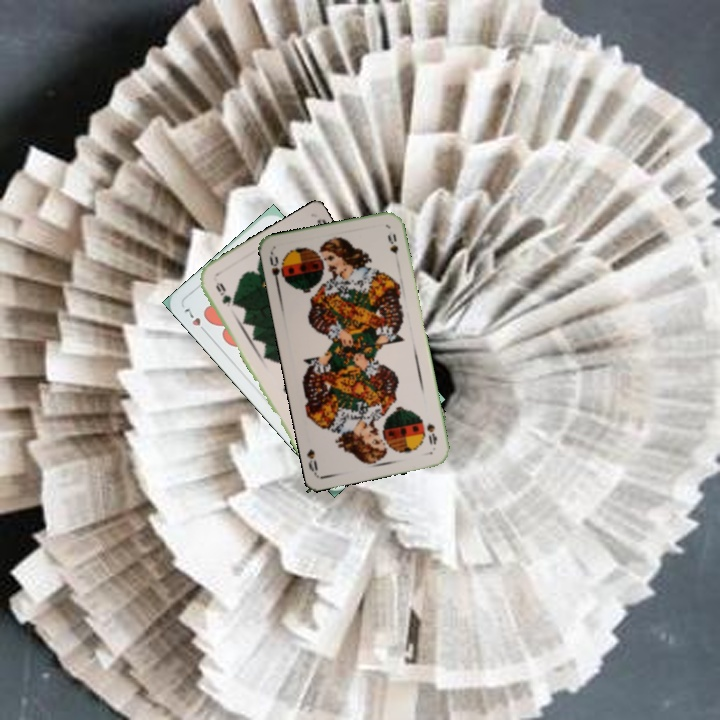G9: (212, 278, 236, 309)
H7: (180, 304, 210, 337)
SO: (265, 249, 288, 290), (423, 419, 440, 448)
